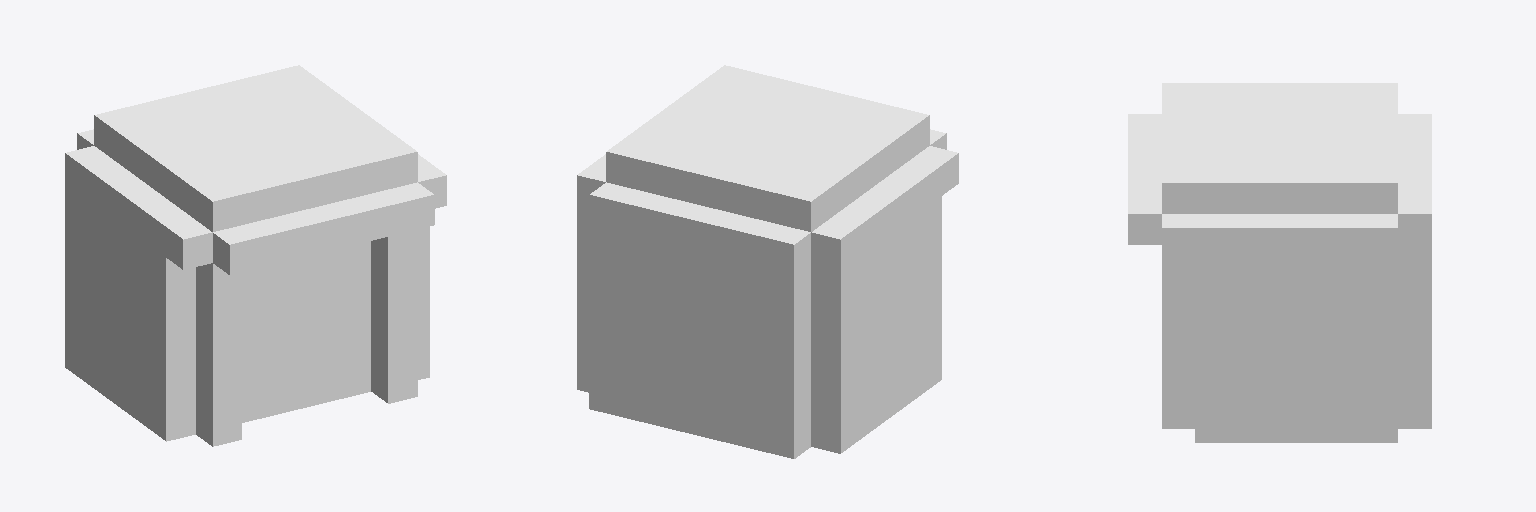
Rendered from Interior_Furniture-48.obj.
The picture shows the model from 3 angles: view 1: azimuth 30°, elevation 25°; view 2: azimuth 150°, elevation 25°; view 3: azimuth 270°, elevation 25°; orthographic projection.
Parts seen in each view (by area): view 1: object 1; view 2: object 1; view 3: object 1.
Part boxes in pixels (left/top/right/bottom): object 1: left=65, top=65, right=446, bottom=446; object 1: left=577, top=65, right=958, bottom=458; object 1: left=1128, top=83, right=1431, bottom=442.
Bounding box in the file's own units: 0.9 × 0.8 × 0.9.